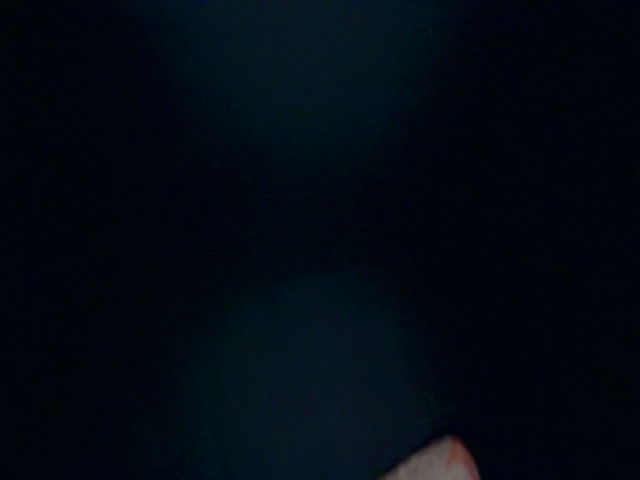KHSLJ: (1, 58, 275, 375)
